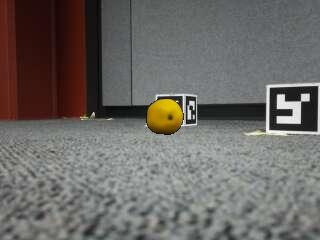lemon: (147, 99, 183, 134)
